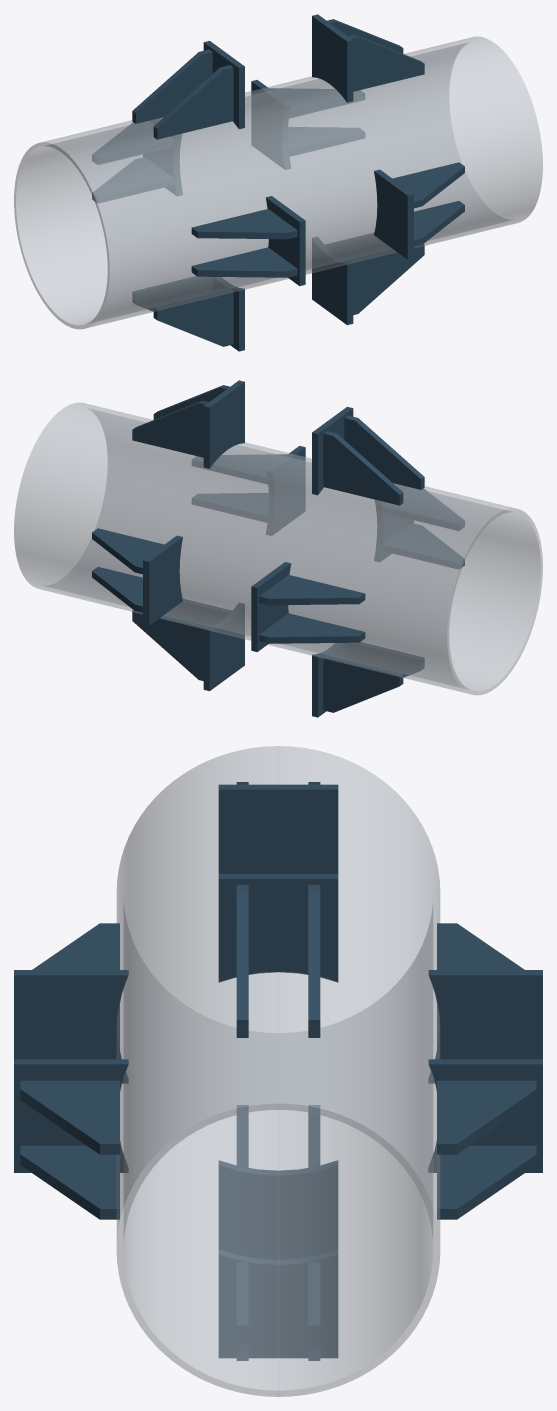
The model's file is TS-661.00.00-04-opora-dn325-ris1.glb.
3 views of the same model, one above another, from view 1: azimuth 30°, elevation 25°; view 2: azimuth 150°, elevation 25°; view 3: azimuth 270°, elevation 25° (orthographic). The views are drawn at different scales.
Visible parts, largest first — view 1: truba, upor_6, upor_17, upor_1, upor_7, upor_13, upor_19, upor_3, upor_14, upor_5, upor_11, upor_12 (+13 smaller); view 2: truba, upor_5, upor_18, upor_1, upor_19, upor_13, upor_7, upor_2, upor_15, upor_6, upor_24, upor_23 (+13 smaller); view 3: truba, upor_4, upor_16, upor_1, upor_13, upor_10, upor_22, upor_8, upor_21, upor_9, upor_20, upor_7 (+9 smaller).
Boxes of the visible parts, box(x1,y1,x2,y2) form: truba: box(14, 36, 542, 329); upor_6: box(153, 65, 233, 139); upor_17: box(153, 289, 233, 346); upor_1: box(312, 14, 353, 102); upor_7: box(374, 169, 413, 259); upor_13: box(312, 237, 353, 325); upor_19: box(251, 79, 290, 169); upor_3: box(348, 34, 424, 91); upor_14: box(346, 244, 424, 314); upor_5: box(132, 49, 212, 123); upor_11: box(191, 209, 297, 239); upor_12: box(191, 247, 297, 277); truba: box(14, 402, 542, 695); upor_5: box(323, 431, 403, 505); upor_18: box(323, 655, 403, 712); upor_1: box(203, 380, 244, 468); upor_19: box(143, 535, 182, 625); upor_13: box(203, 603, 244, 691); upor_7: box(266, 445, 305, 535); upor_2: box(132, 400, 208, 457); upor_15: box(132, 610, 210, 680); upor_6: box(344, 415, 424, 489); upor_24: box(259, 575, 365, 605); upor_23: box(259, 613, 365, 643); truba: box(116, 746, 440, 1396); upor_4: box(218, 784, 338, 873); upor_16: box(218, 1160, 338, 1259); upor_1: box(218, 874, 338, 982); upor_13: box(218, 1249, 338, 1358); upor_10: box(14, 970, 128, 1083); upor_22: box(428, 970, 542, 1083); upor_8: box(20, 1080, 119, 1154); upor_21: box(437, 1080, 536, 1154); upor_9: box(20, 1145, 119, 1219); upor_20: box(437, 1145, 536, 1219); upor_7: box(14, 1059, 128, 1172).
Bounding box in the file's own units: 849 × 531 × 531.
